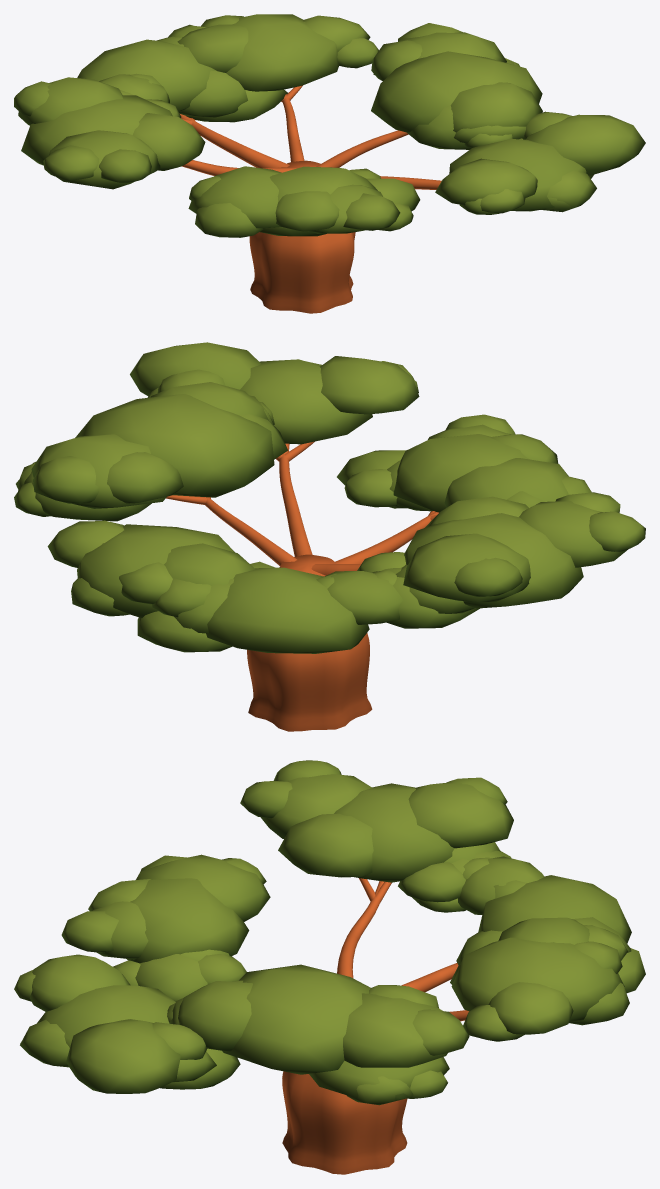
Rendered from baobab_squat.glb.
The picture shows the model from 3 angles, top to bottom: view 1: azimuth 30°, elevation 25°; view 2: azimuth 150°, elevation 25°; view 3: azimuth 270°, elevation 25°; orthographic projection. The views are drawn at different scales.
Visible parts, largest first — view 1: baobab_squat_leaves, baobab_squat_bark; view 2: baobab_squat_leaves, baobab_squat_bark; view 3: baobab_squat_leaves, baobab_squat_bark.
Boxes of the visible parts, x1,y1,x2,y2 form: baobab_squat_leaves: (14,14,645,237); baobab_squat_bark: (180,85,441,313); baobab_squat_leaves: (14,342,645,653); baobab_squat_bark: (166,441,438,731); baobab_squat_leaves: (14,760,645,1105); baobab_squat_bark: (282,878,468,1174).
Size of the model in its own units: 34.62 by 13.97 by 31.94.
